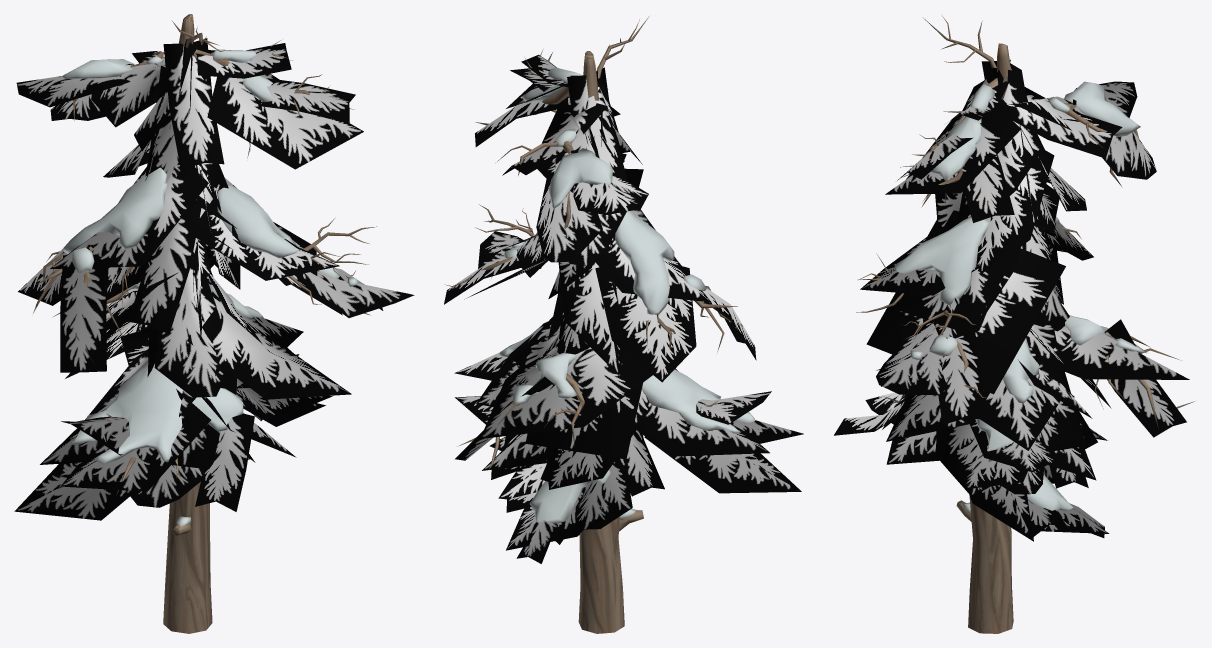
Rendered from P_PineSnowCover02.obj.
3 views of the same model, side by side, from view 1: azimuth 30°, elevation 25°; view 2: azimuth 150°, elevation 25°; view 3: azimuth 270°, elevation 25° (orthographic). The views are drawn at different scales.
Size of the model in its own units: 7.6 by 12.27 by 6.71.
